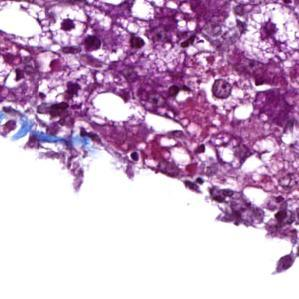ballooning: (238, 5, 295, 68), (201, 66, 258, 124), (44, 3, 90, 51)
